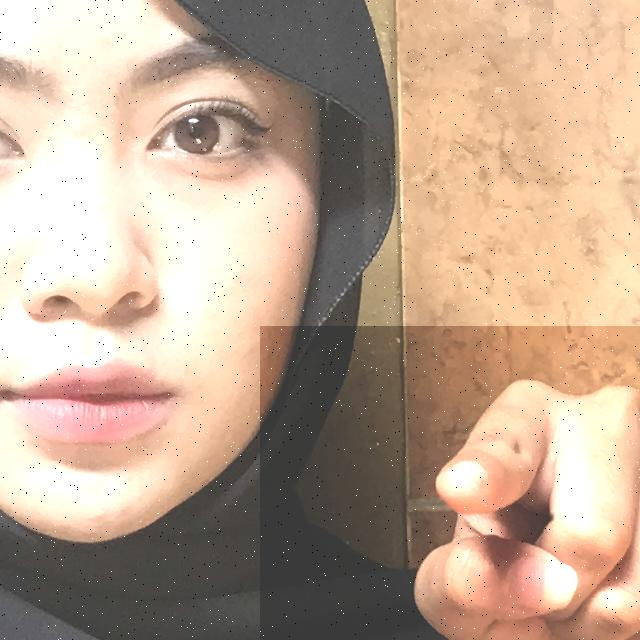kamu: (260, 326, 640, 640)
